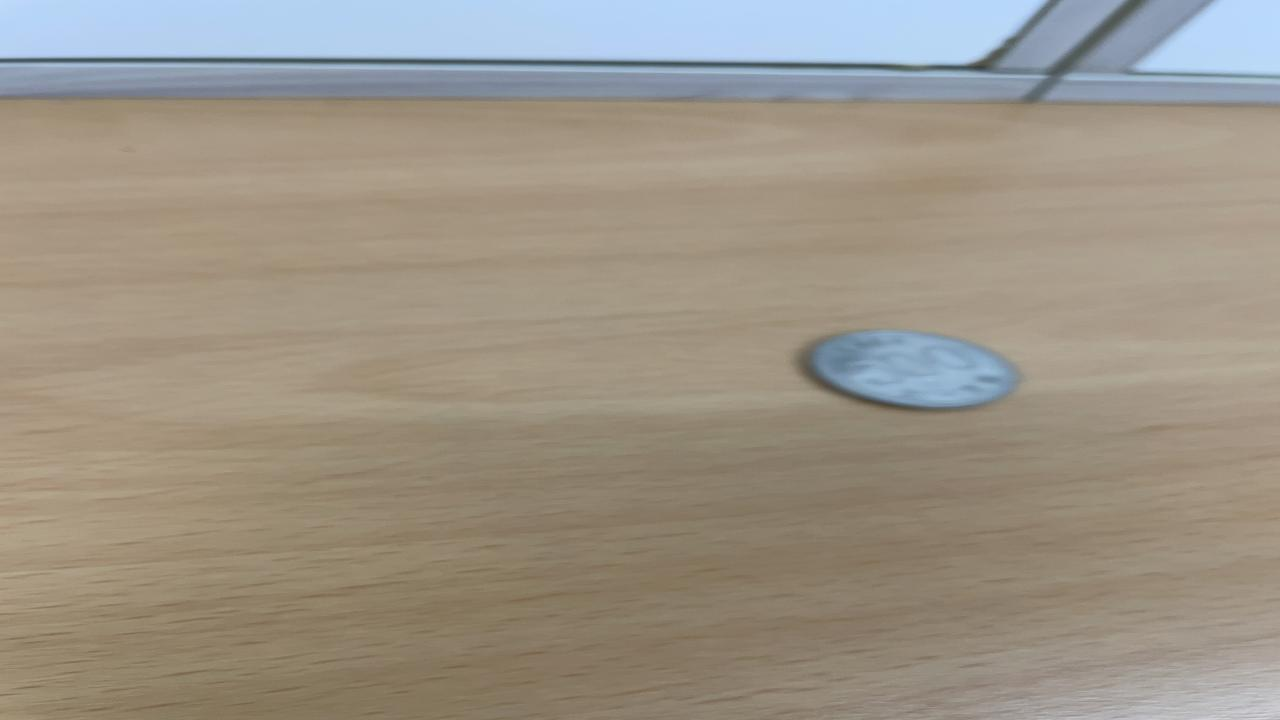coin: (801, 328, 1022, 412)
